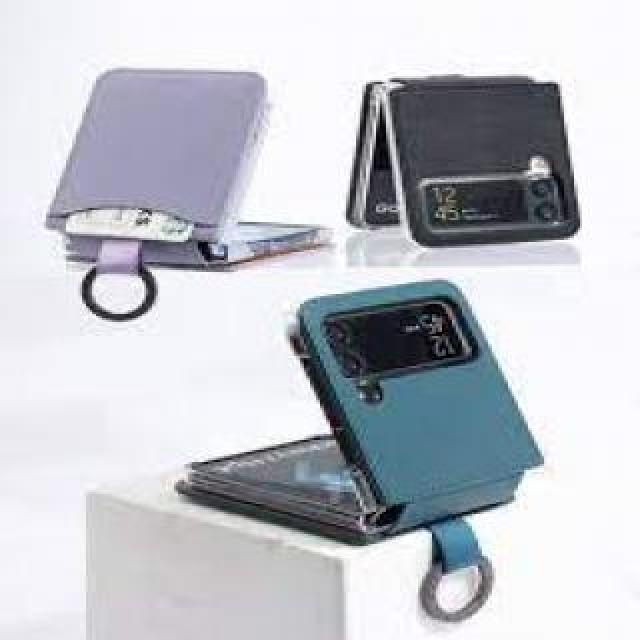smart phone: (153, 267, 567, 573), (343, 55, 617, 273)
